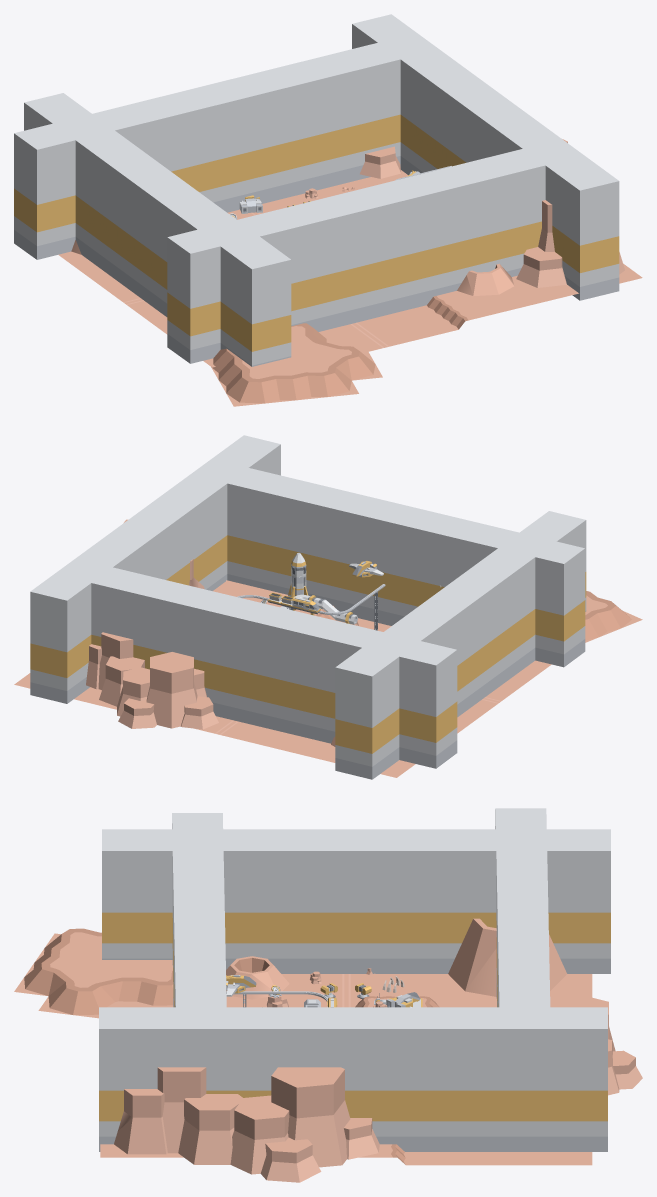
The model's file is martian.glb.
The picture shows the model from 3 angles, top to bottom: view 1: azimuth 30°, elevation 25°; view 2: azimuth 150°, elevation 25°; view 3: azimuth 270°, elevation 25°; orthographic projection. The views are drawn at different scales.
Visible parts, largest first — view 1: mur.001, mur.002, mur.003, mur, rock_largeA.005, craterLarge.005, rock_largeA.010, terrain.940, terrain.941, terrain.939, terrain.933, terrain.934 (+2 smaller); view 2: mur.002, mur.001, mur.003, mur, rock_largeA.009, rock_largeA.010, terrain.942; view 3: mur.003, mur, rock_largeA.006, mur.002, mur.001, rock_largeA.005, craterLarge.006, rock_largeA.009, craterLarge.004, terrain.937, terrain.932, terrain.933 (+5 smaller).
Part boxes in pixels (bbox=[...]): mur.001: bbox=[167, 144, 582, 363]; mur.002: bbox=[14, 36, 425, 259]; mur.003: bbox=[24, 93, 291, 366]; mur: bbox=[352, 14, 619, 300]; rock_largeA.005: bbox=[516, 200, 624, 287]; craterLarge.005: bbox=[457, 263, 514, 295]; rock_largeA.010: bbox=[360, 146, 400, 178]; terrain.940: bbox=[258, 372, 296, 403]; terrain.941: bbox=[289, 369, 327, 400]; terrain.939: bbox=[226, 375, 264, 406]; terrain.933: bbox=[344, 351, 382, 380]; terrain.934: bbox=[320, 367, 358, 396]; mur.002: bbox=[64, 560, 457, 768]; mur.001: bbox=[192, 460, 585, 667]; mur.003: bbox=[335, 511, 586, 779]; mur: bbox=[30, 435, 280, 703]; rock_largeA.009: bbox=[117, 652, 218, 729]; rock_largeA.010: bbox=[86, 632, 144, 706]; terrain.942: bbox=[585, 605, 620, 637]; mur.003: bbox=[102, 829, 610, 973]; mur: bbox=[99, 1007, 607, 1151]; rock_largeA.006: bbox=[230, 1067, 379, 1182]; mur.002: bbox=[495, 808, 550, 1023]; mur.001: bbox=[172, 813, 226, 1027]; rock_largeA.005: bbox=[114, 1067, 244, 1164]; craterLarge.006: bbox=[448, 918, 566, 996]; rock_largeA.009: bbox=[556, 995, 642, 1095]; craterLarge.004: bbox=[226, 956, 289, 999]; terrain.937: bbox=[118, 974, 162, 1005]; terrain.932: bbox=[73, 984, 114, 1018]; terrain.933: bbox=[38, 982, 82, 1014].
Size of the model in its own units: 36.18 by 8.15 by 37.07.
